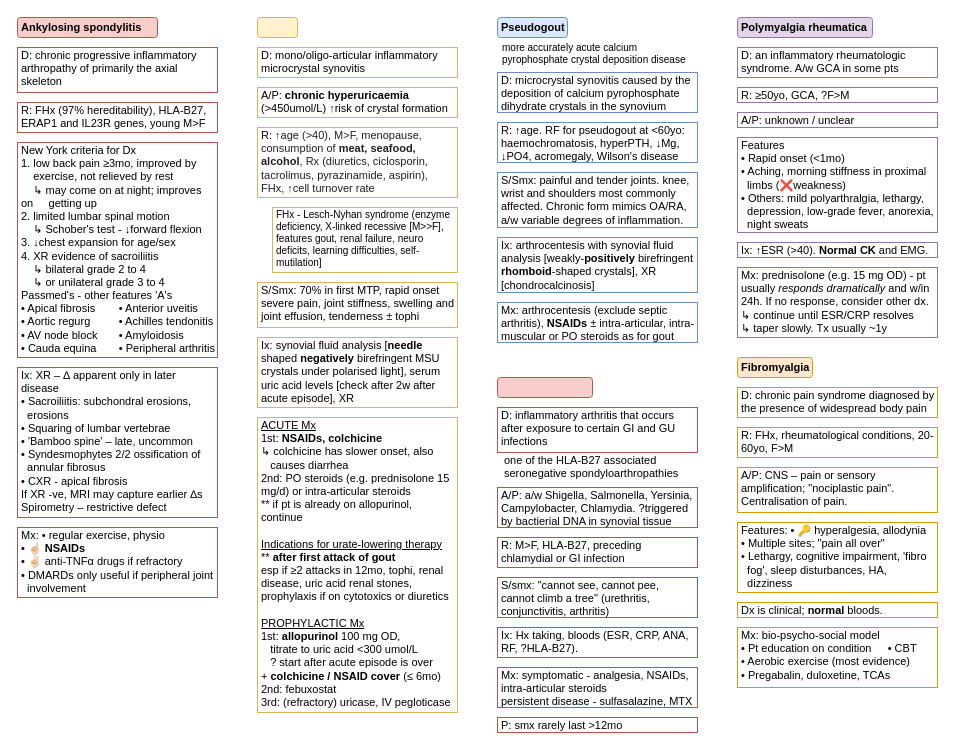
Image size: 955x750. Some labels were removed from this diagram. The centre of each missing label's shape, as x and y in pixels:
"Gout" belongs at (x=277, y=27).
"Reactive arthritis" belongs at (x=544, y=387).
